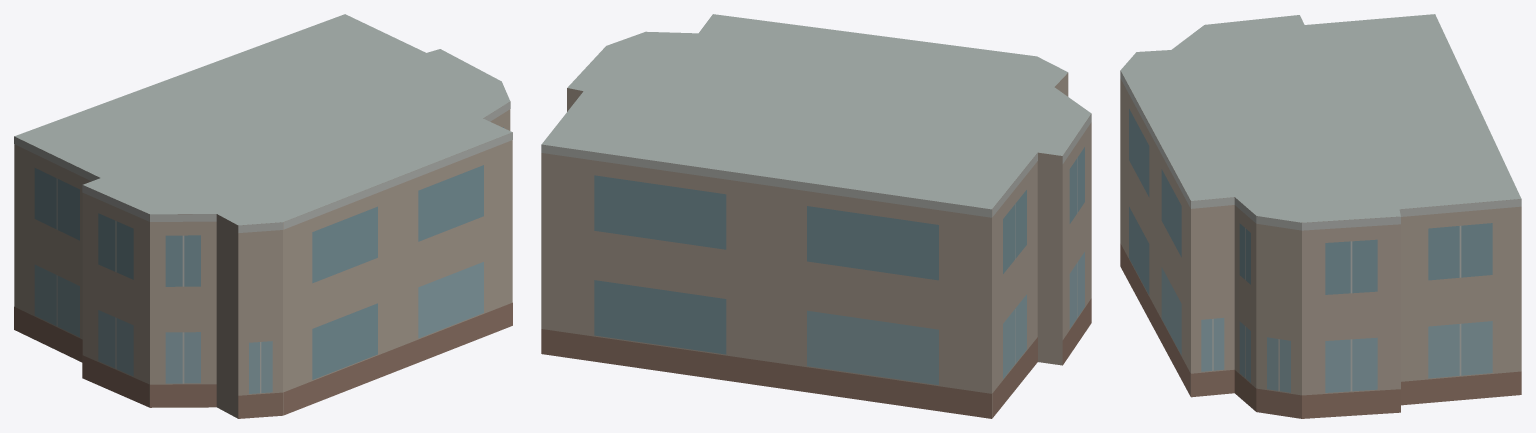
The model's file is survey-upis-32775775.glb.
3 renders of one model, left to right at view 1: azimuth 30°, elevation 25°; view 2: azimuth 150°, elevation 25°; view 3: azimuth 270°, elevation 25°, orthographic. The views are drawn at different scales.
Parts seen in each view (by area): view 1: survey-upis-32775775.tmp; view 2: survey-upis-32775775.tmp; view 3: survey-upis-32775775.tmp.
Boxes of the visible parts, x1,y1,x2,y2 form: survey-upis-32775775.tmp: (14, 14, 512, 418); survey-upis-32775775.tmp: (541, 14, 1091, 418); survey-upis-32775775.tmp: (1120, 14, 1521, 418).
Bounding box in the file's own units: 13.94 × 6.1 × 11.32.
